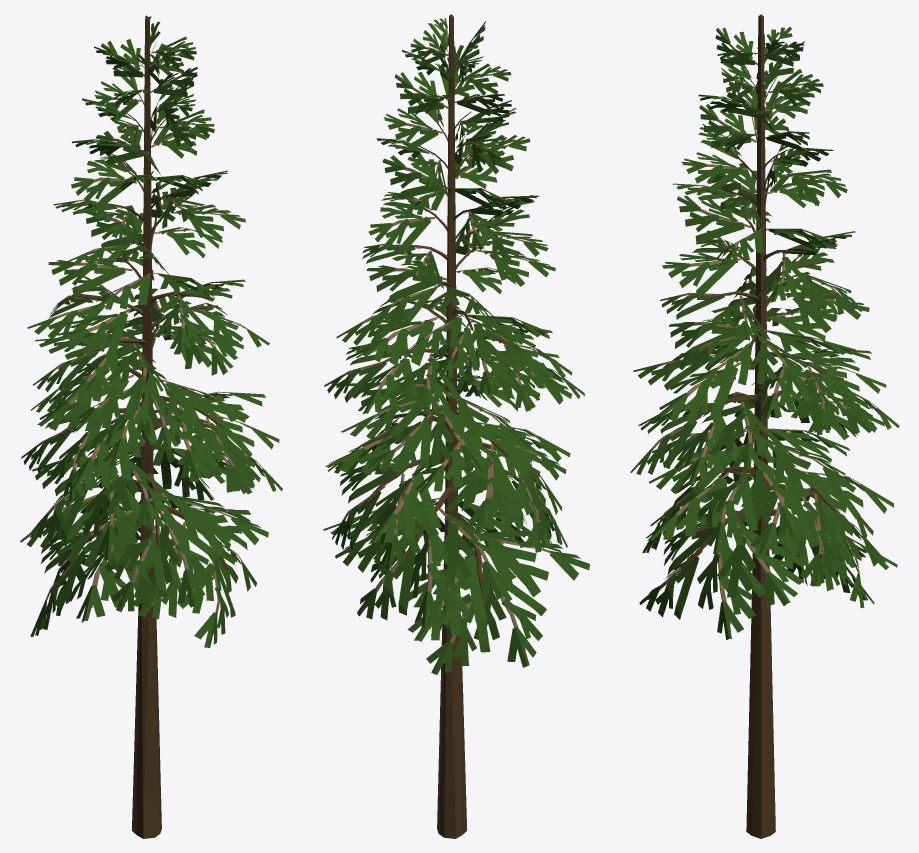
The model's file is SM_tree_03.gltf.
The picture shows the model from 3 angles, left to right: view 1: azimuth 30°, elevation 25°; view 2: azimuth 150°, elevation 25°; view 3: azimuth 270°, elevation 25°; orthographic projection.
Parts seen in each view (by area): view 1: SM_tree_03; view 2: SM_tree_03; view 3: SM_tree_03.
Boxes of the visible parts, bbox=[...] form: SM_tree_03: bbox=[20, 15, 282, 838]; SM_tree_03: bbox=[323, 14, 589, 838]; SM_tree_03: bbox=[630, 14, 899, 838].
Size of the model in its own units: 4.5 by 15.55 by 4.8.
Materials: 2 (1 with a texture image).
